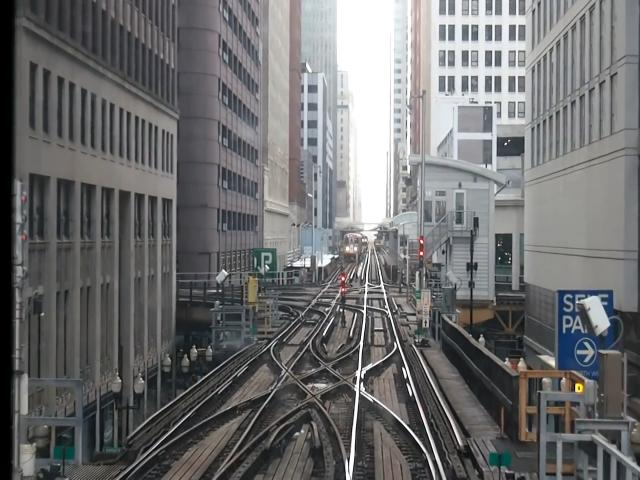signal light: (341, 274, 348, 305), (420, 237, 425, 272)
